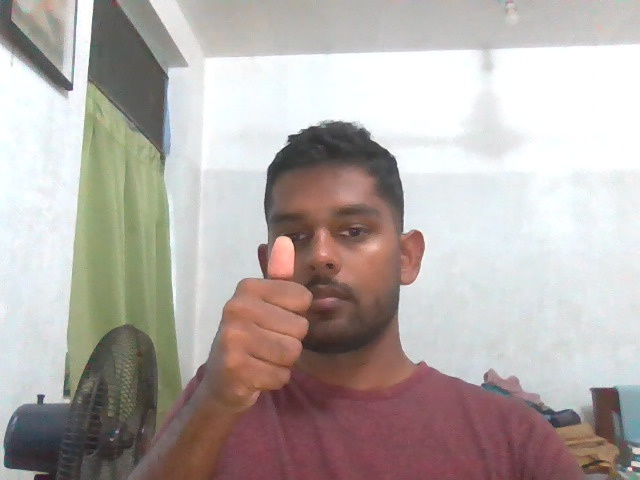good.: (188, 228, 314, 407)
